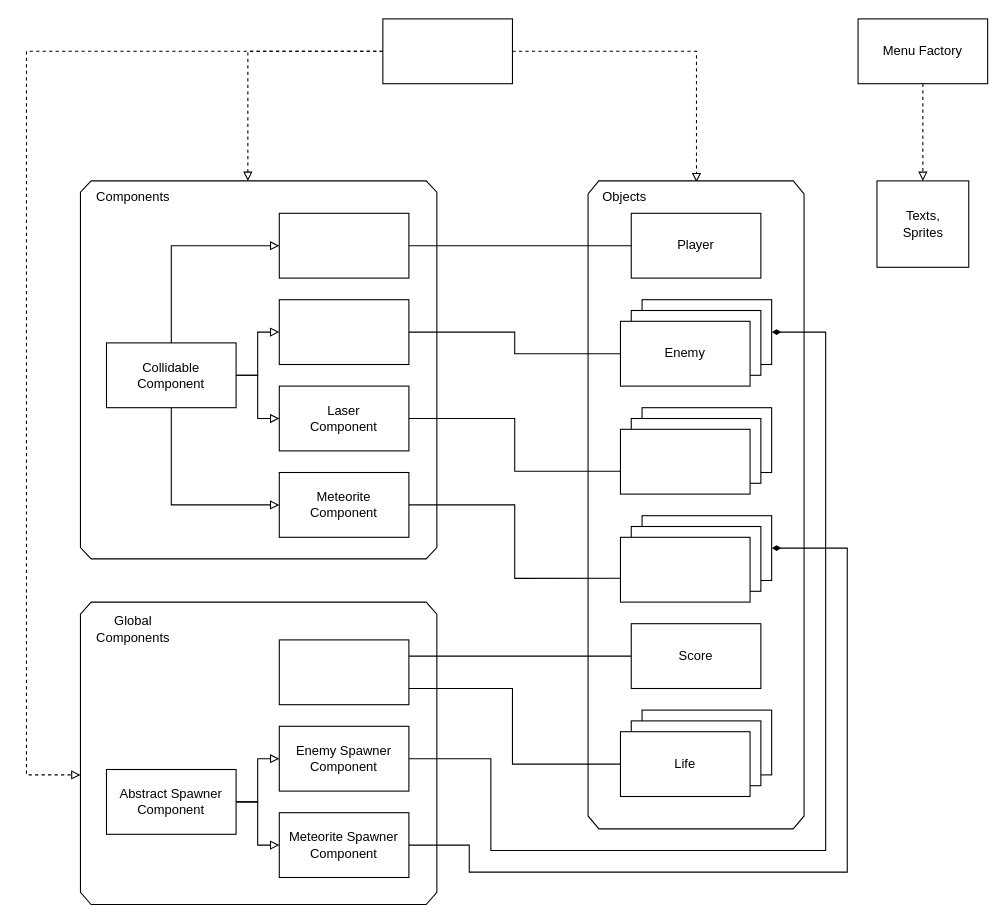
The diagram is 1007 pixels wide and 923 high, and some of its shapes have lost their labels. The centre of each missing label's shape, as x and y in pixels:
"Enemy Component" goes at point (343, 331).
"Game Factory" goes at point (447, 51).
"Game Stats Component" goes at point (343, 672).
"Laser" goes at point (684, 461).
"Meteorite" goes at point (684, 569).
"Player Component" goes at point (343, 245).
